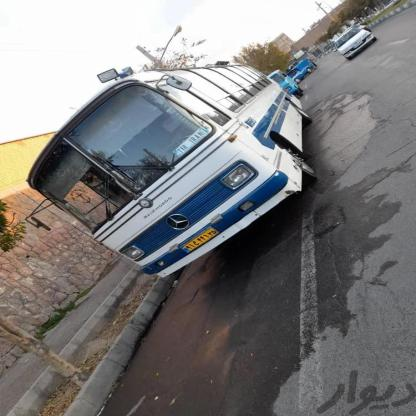Bus: (13, 70, 318, 269)
Car: (314, 31, 380, 58), (290, 58, 320, 77)
